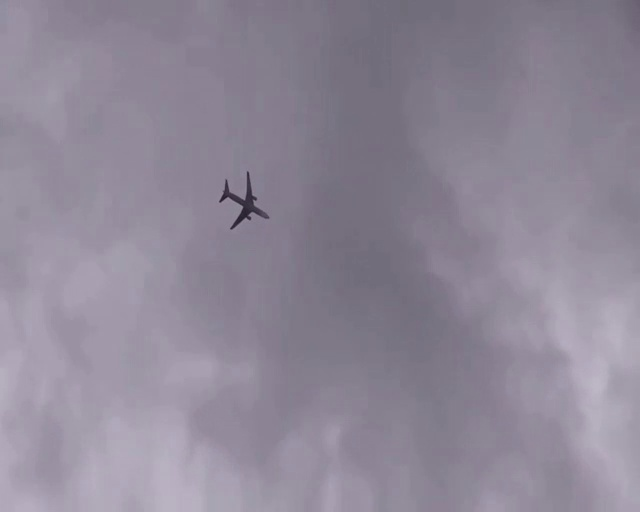AIRPLANE: (218, 170, 270, 230)
